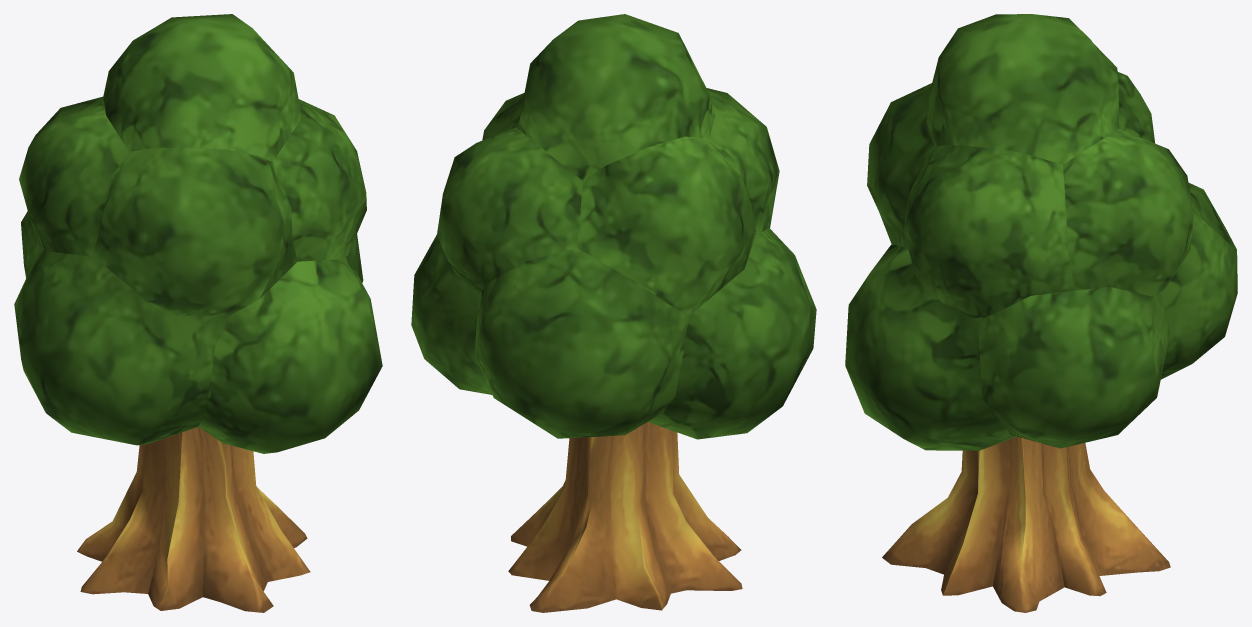
The model's file is tree1_HD.fbx.
The picture shows the model from 3 angles, left to right: view 1: azimuth 30°, elevation 25°; view 2: azimuth 150°, elevation 25°; view 3: azimuth 270°, elevation 25°; orthographic projection.
Parts seen in each view (by area): view 1: tree1; view 2: tree1; view 3: tree1.
Boxes of the visible parts, x1,y1,x2,y2 form: tree1: [14, 14, 382, 612]; tree1: [411, 14, 816, 612]; tree1: [845, 14, 1237, 612].
Size of the model in its own units: 1.4 by 2.05 by 1.34.
